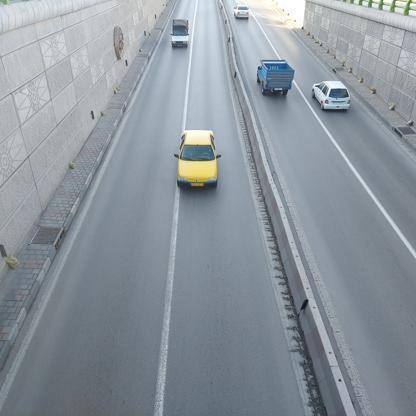Car: (176, 127, 219, 197), (256, 61, 293, 109), (316, 80, 356, 117), (165, 17, 193, 52), (234, 6, 254, 24)
